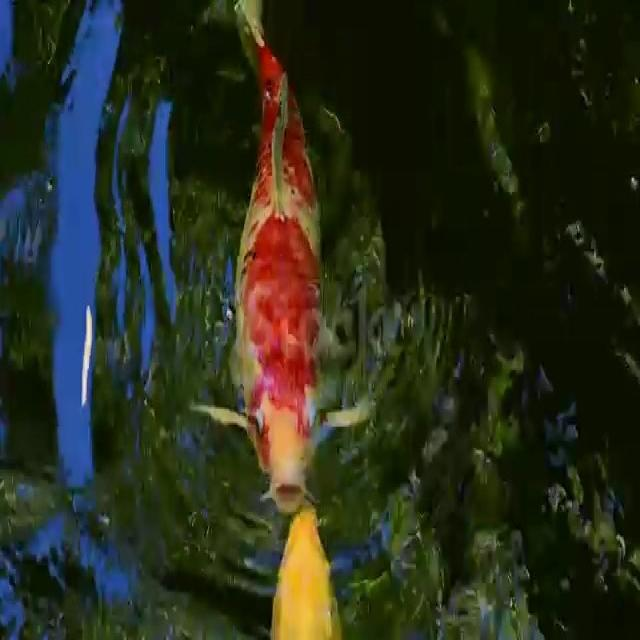fish: (193, 3, 378, 502), (266, 506, 346, 640)
